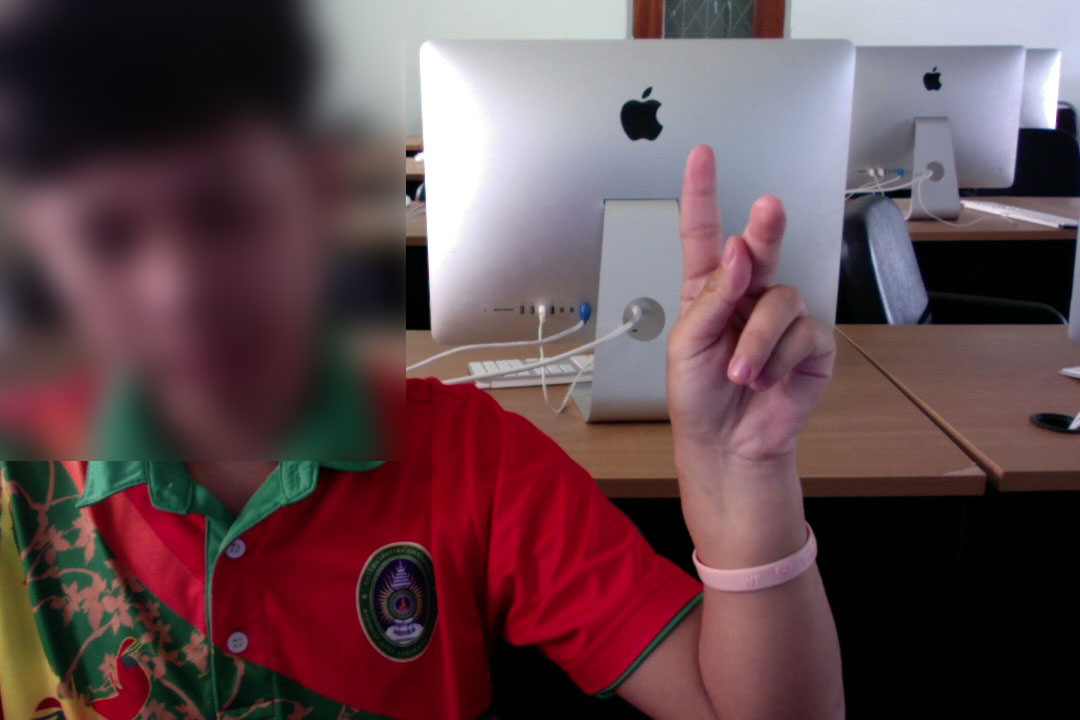ko: (662, 121, 842, 507)
